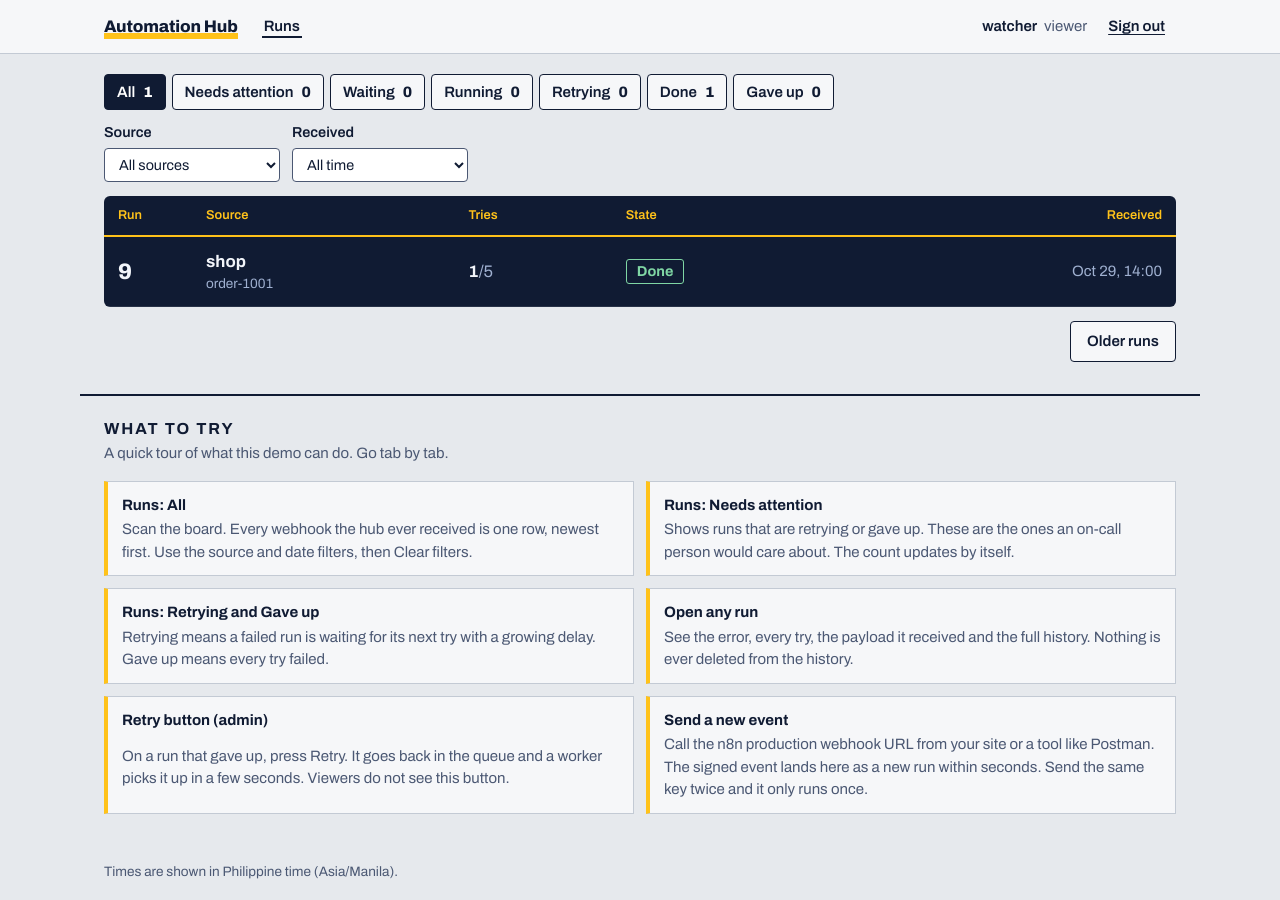
Scenario: the runs board › pages to older runs with the cursor, and can return to the newest
This screenshot has width=1280, height=900.
Click the button "Older runs".
click(1123, 342)  # box [1070, 321, 1176, 362]
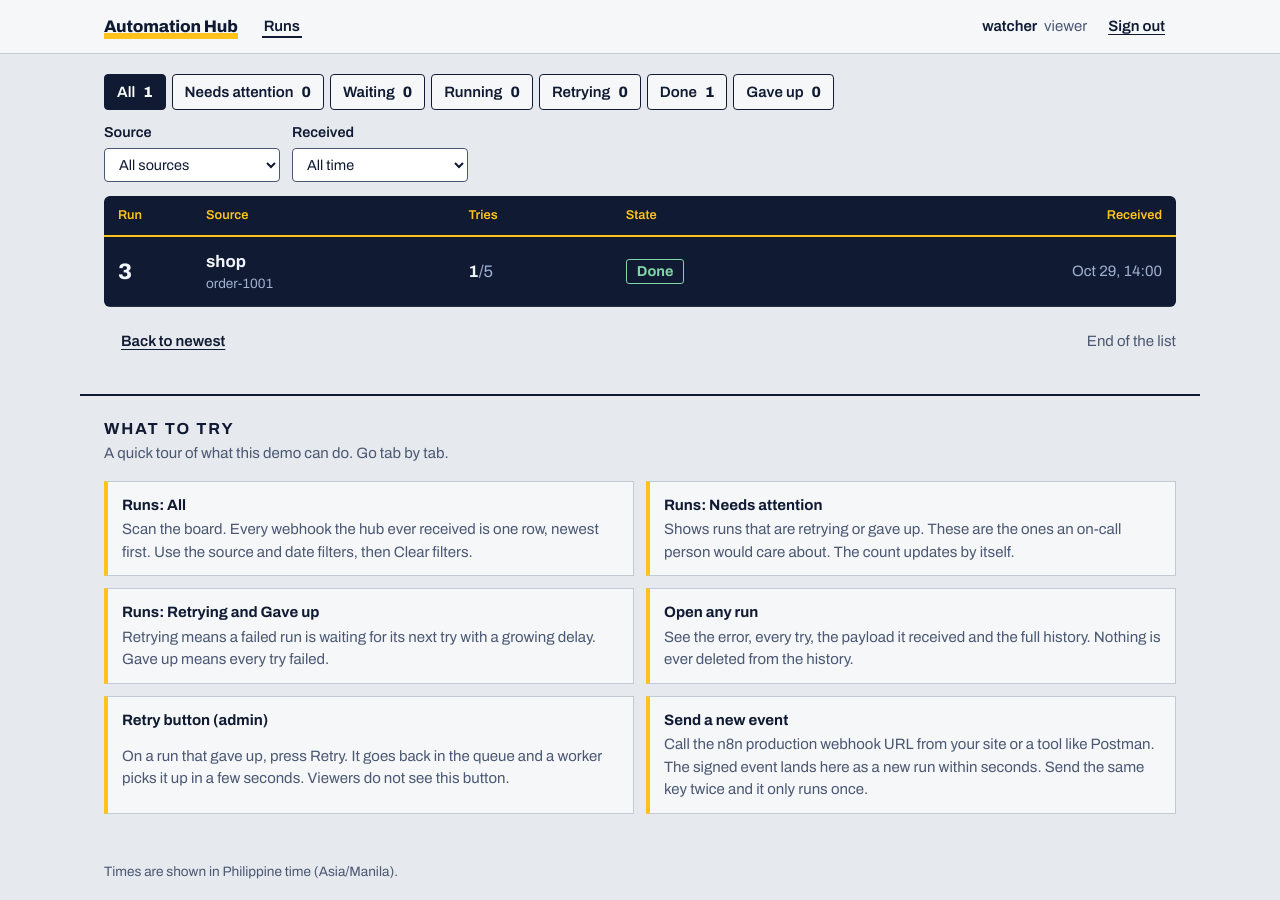
Check: the link named "Open run 3" is shown, box [118, 259, 132, 284]
Check: the text "End of the list" is shown, box [1087, 330, 1176, 353]
Click the button "Back to newest".
click(173, 342)  # box [104, 321, 242, 362]
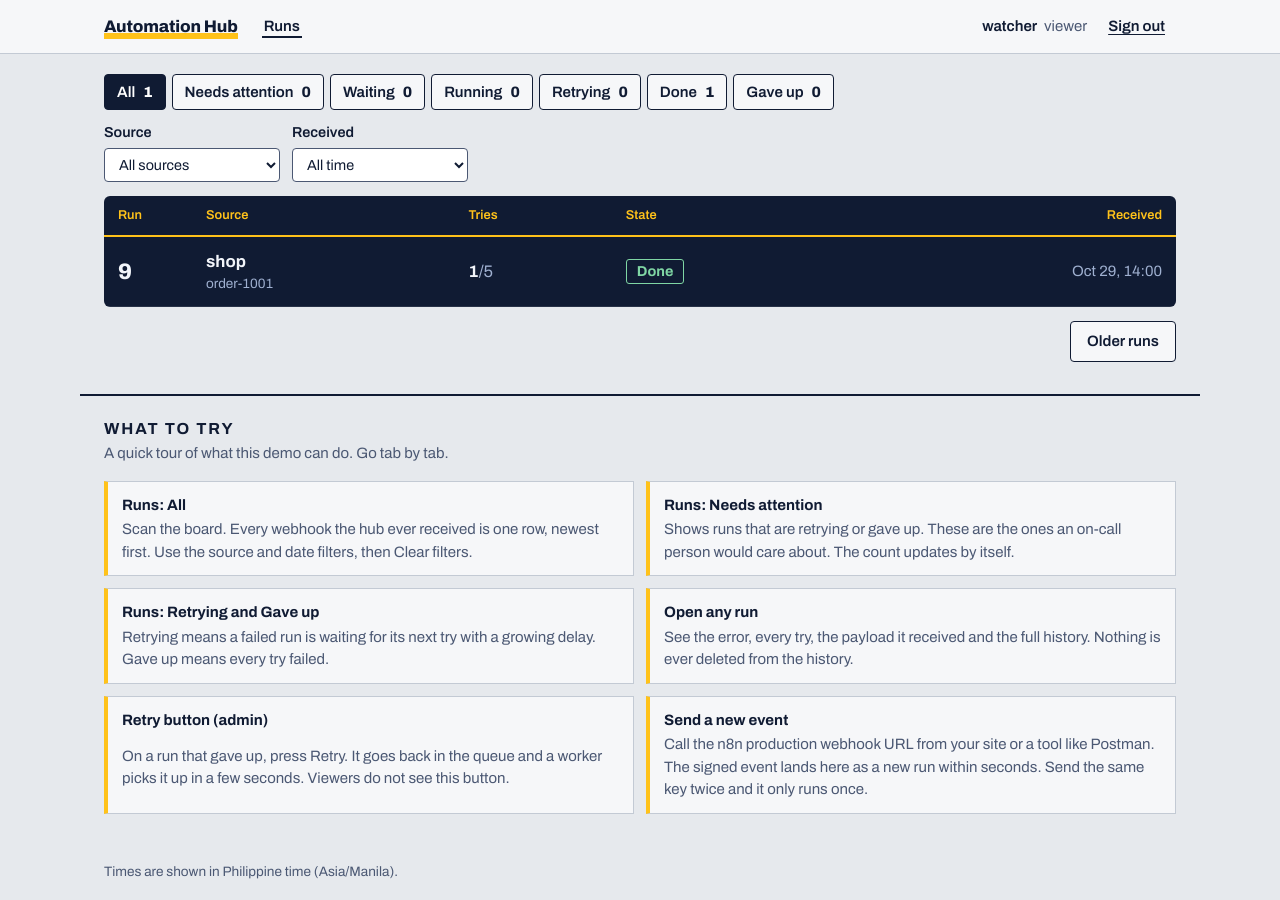
Check: the link named "Open run 9" is shown, box [118, 259, 132, 284]
